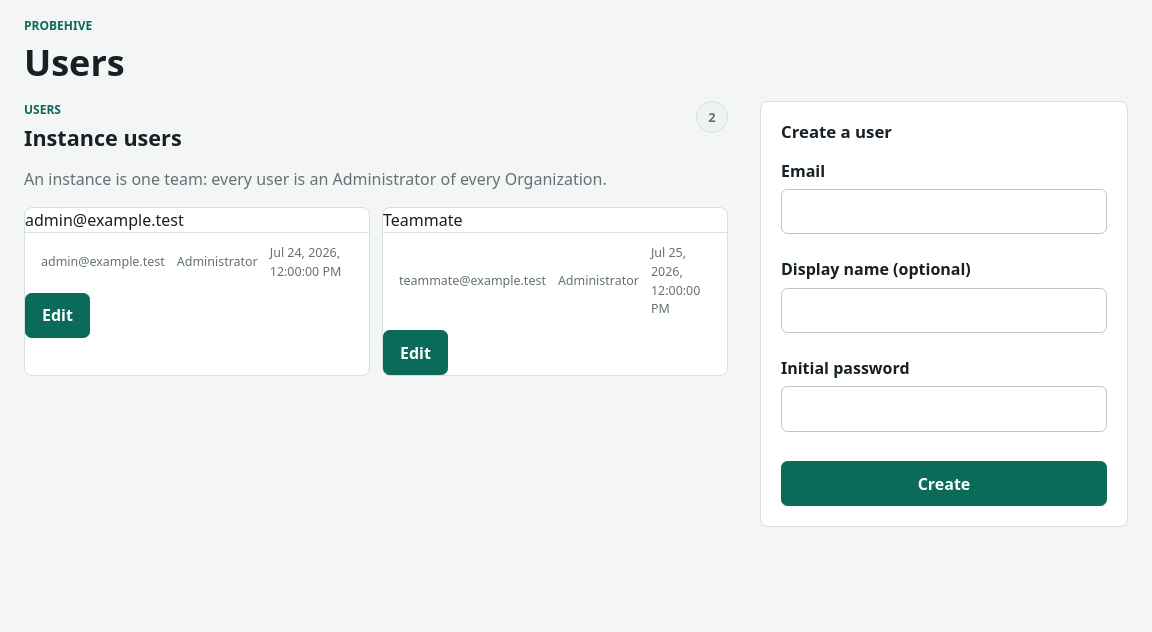
Test: shows a conflict message when editing to an email already in use
Click the button "Edit" below "teammate@example.test" at coordinates (415, 353), box [383, 330, 448, 375]
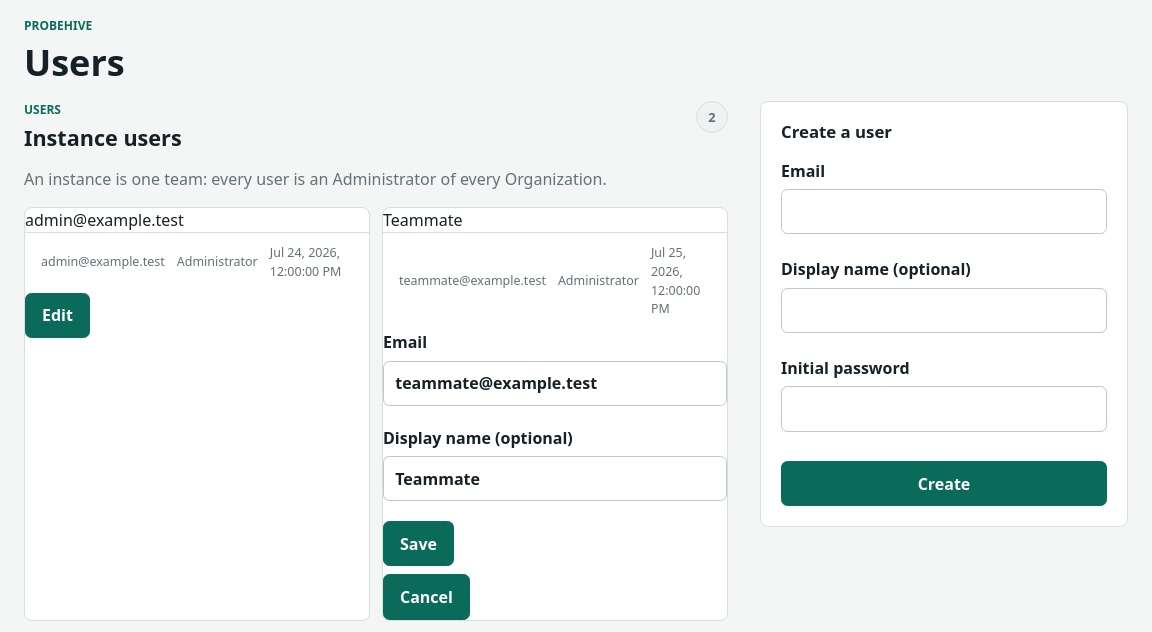
Click the button "Save" at coordinates (418, 544), box [383, 521, 454, 566]
(page scrolled)
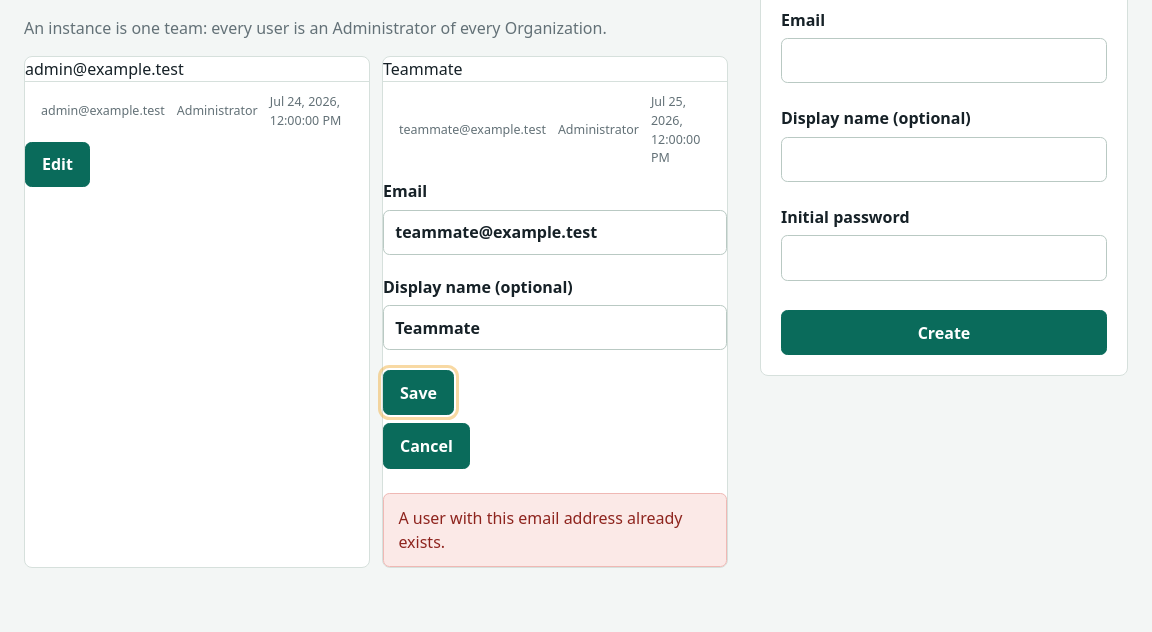
Expected: the text "A user with this email address already exists." is shown, [383, 493, 727, 567]
